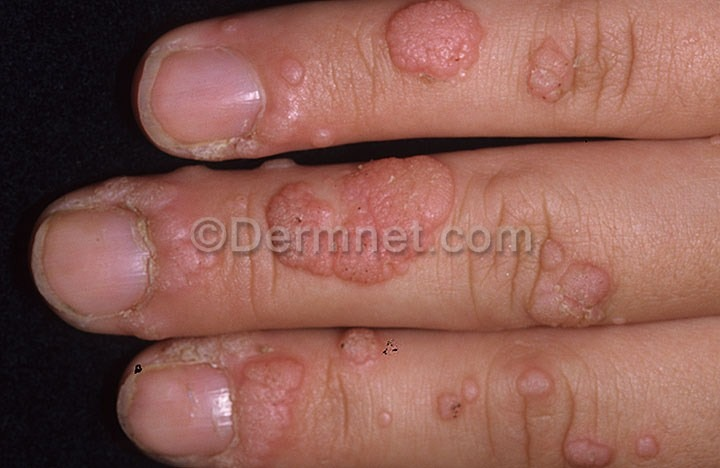Warts: (373, 0, 499, 84), (421, 360, 567, 432), (230, 354, 307, 457), (512, 29, 597, 114), (553, 425, 672, 468)
